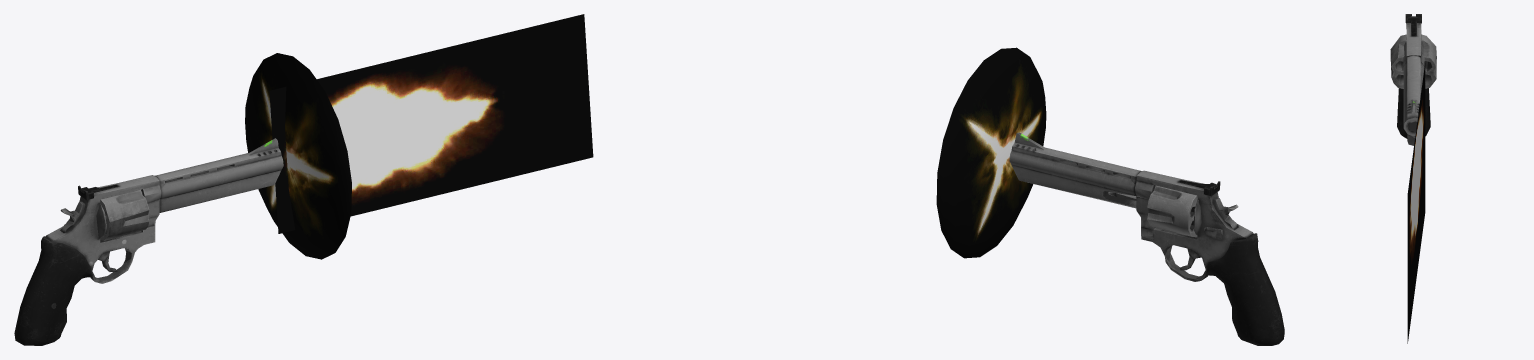
Rendered from Magnum_1.glb.
The picture shows the model from 3 angles, left to right: view 1: azimuth 30°, elevation 25°; view 2: azimuth 150°, elevation 25°; view 3: azimuth 270°, elevation 25°; orthographic projection. The views are drawn at different scales.
Visible parts, largest first — view 1: MuzzleFlash, Magnum_Decimated; view 2: Magnum_Decimated, MuzzleFlash; view 3: Magnum_Decimated, MuzzleFlash.
Part boxes in pixels (x1,y1,x2,y2): MuzzleFlash: (245,14,593,259); Magnum_Decimated: (14,138,283,345); Magnum_Decimated: (1009,132,1284,345); MuzzleFlash: (936,47,1046,258); Magnum_Decimated: (1390,14,1436,145); MuzzleFlash: (1407,63,1425,343).
Size of the model in its own units: 0.7793 by 0.2806 by 0.2474.
2 materials, 2 textured.
